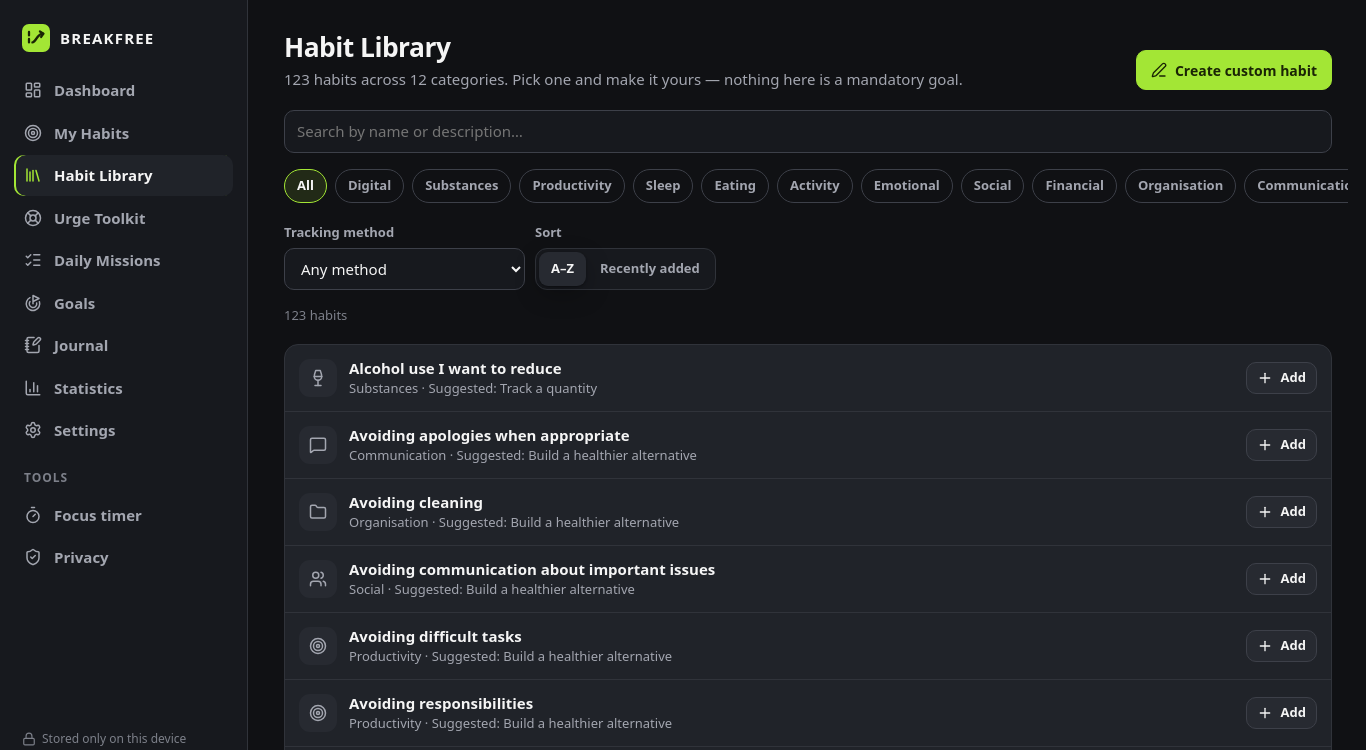
Test case: habits › adds a habit from the library with validation
The image size is (1366, 750).
Type "smoking cig" into the search field. click: {"x": 808, "y": 131}
box: [284, 110, 1332, 153]
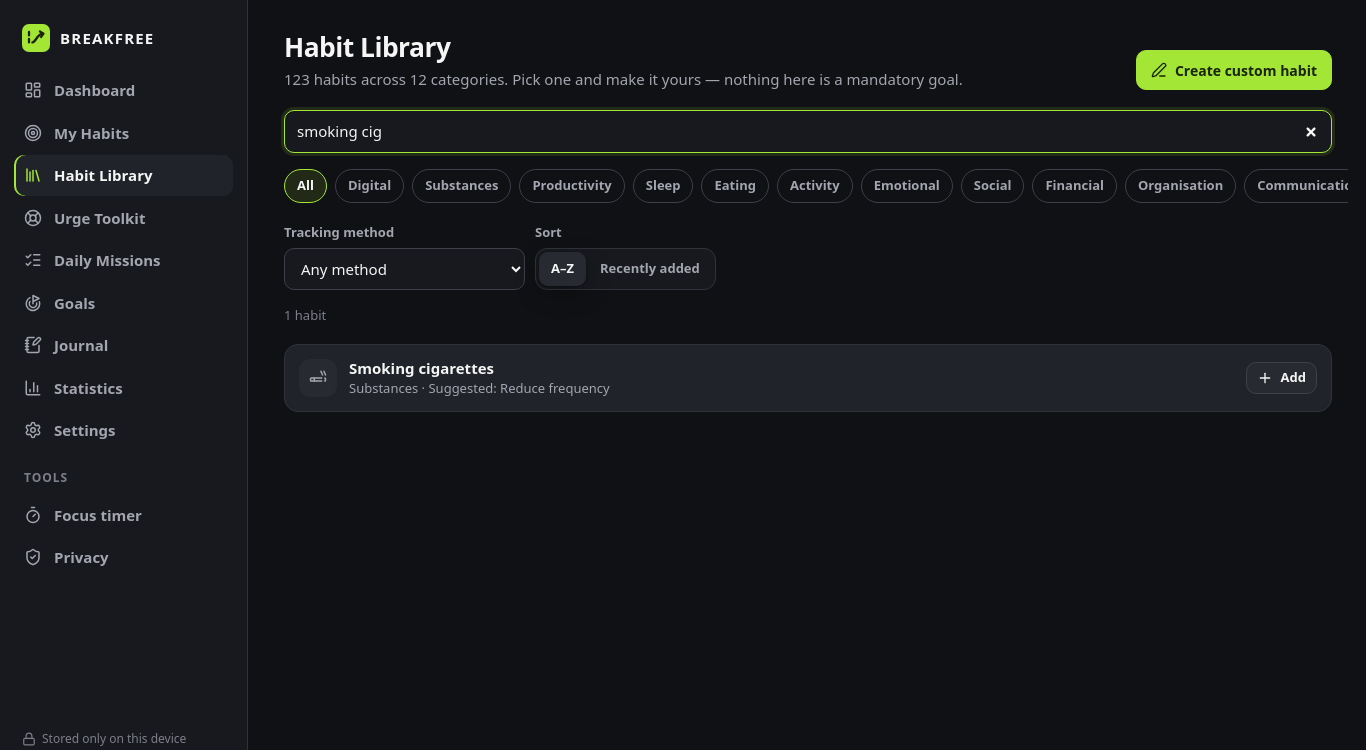
Click the button with aria-label "Add Smoking cigarettes". click: {"x": 1281, "y": 378}
box: [1246, 362, 1317, 394]
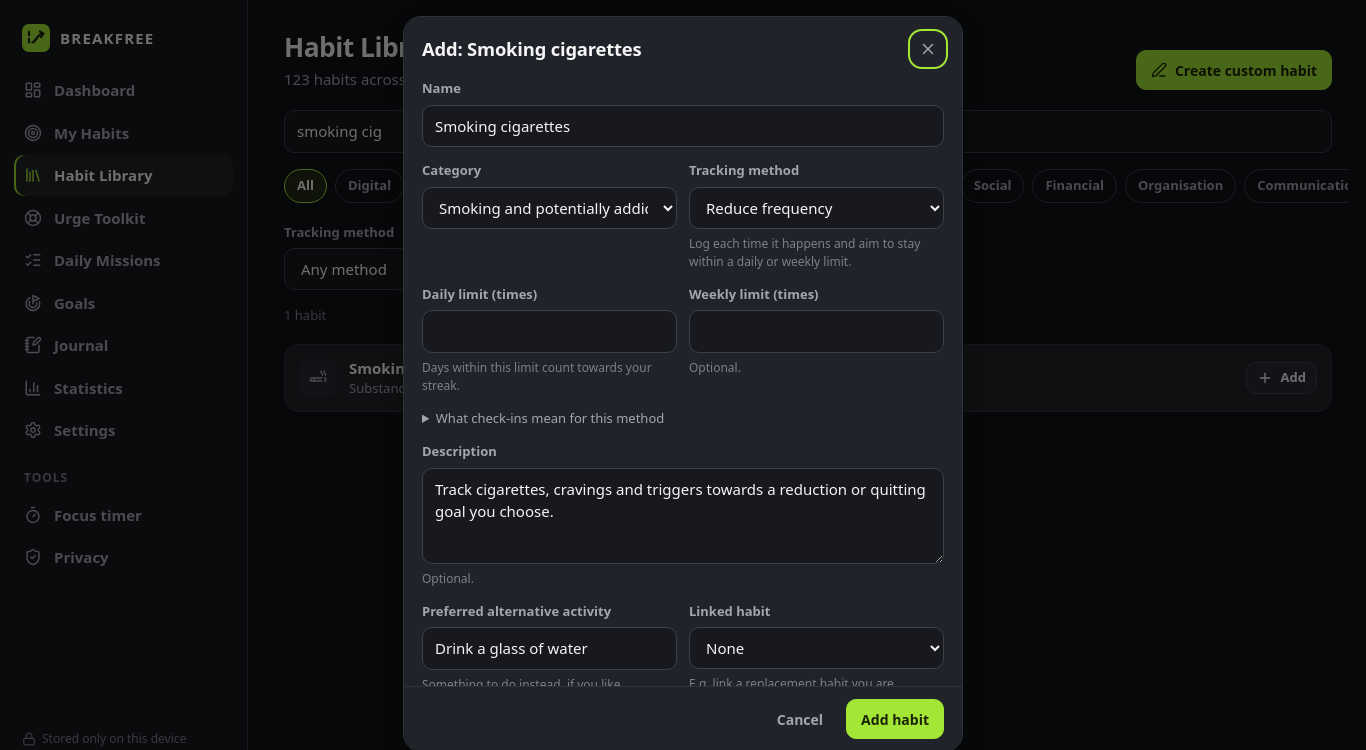
Click the button "Add habit". click: {"x": 895, "y": 719}
box: [846, 699, 944, 739]
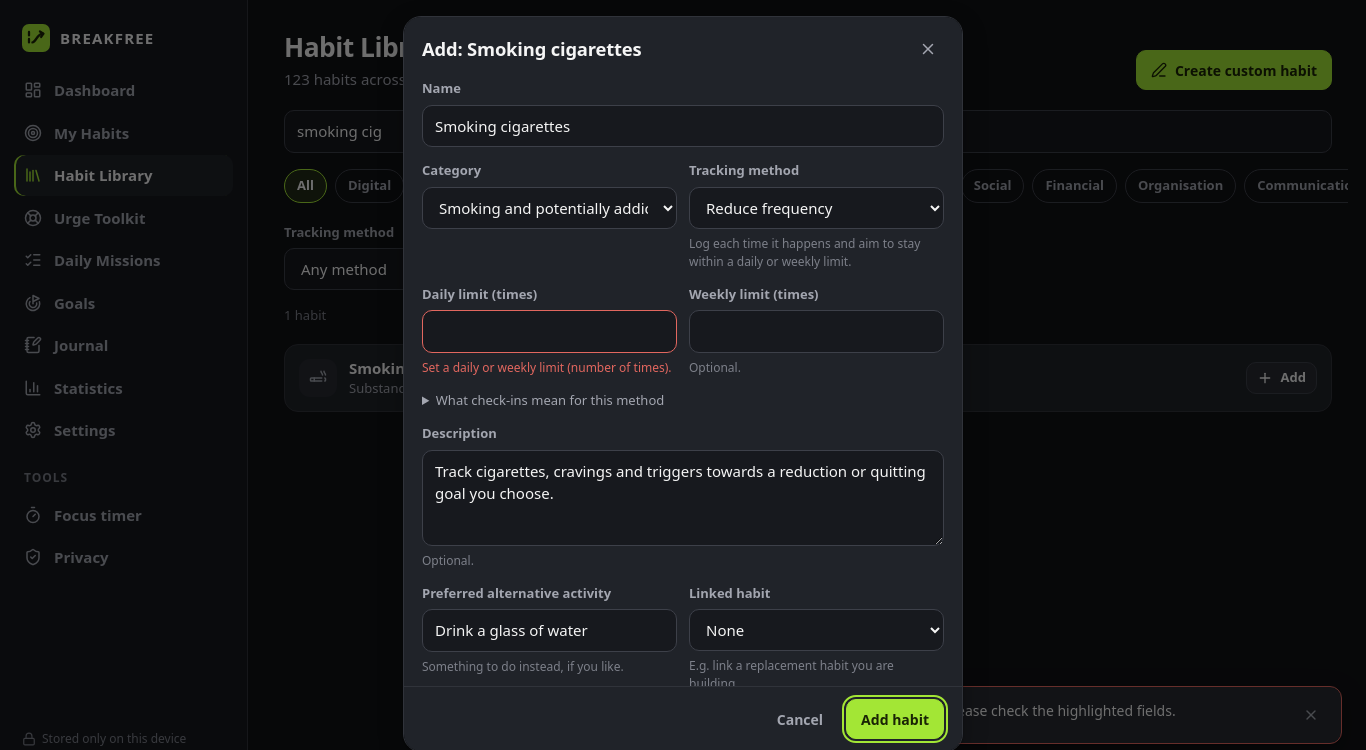
expect the text "Set a daily or weekly limit (number of times)." is shown: met, box [422, 358, 677, 376]
Type "5" into the number field labelled "Daily limit (times)". click: {"x": 550, "y": 331}
box: [422, 310, 677, 352]
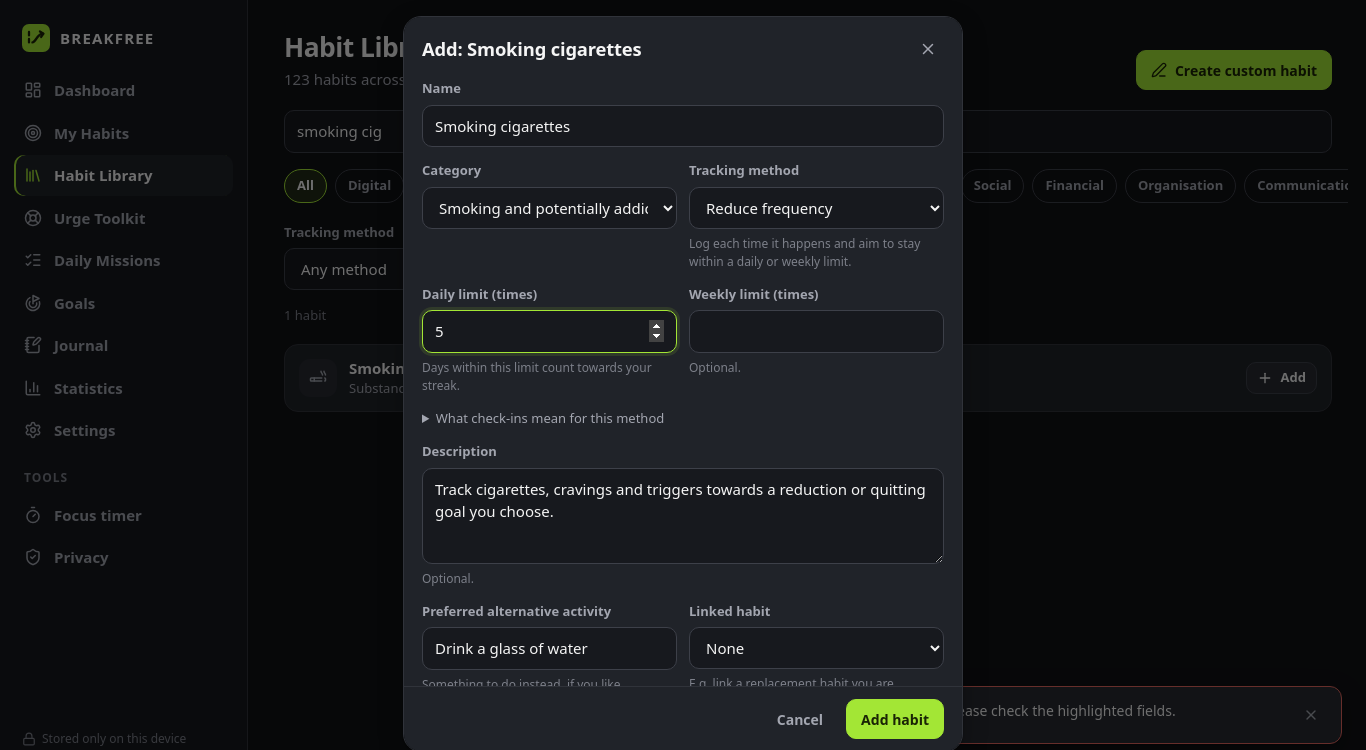
Click the button "Add habit". click: {"x": 895, "y": 719}
box: [846, 699, 944, 739]
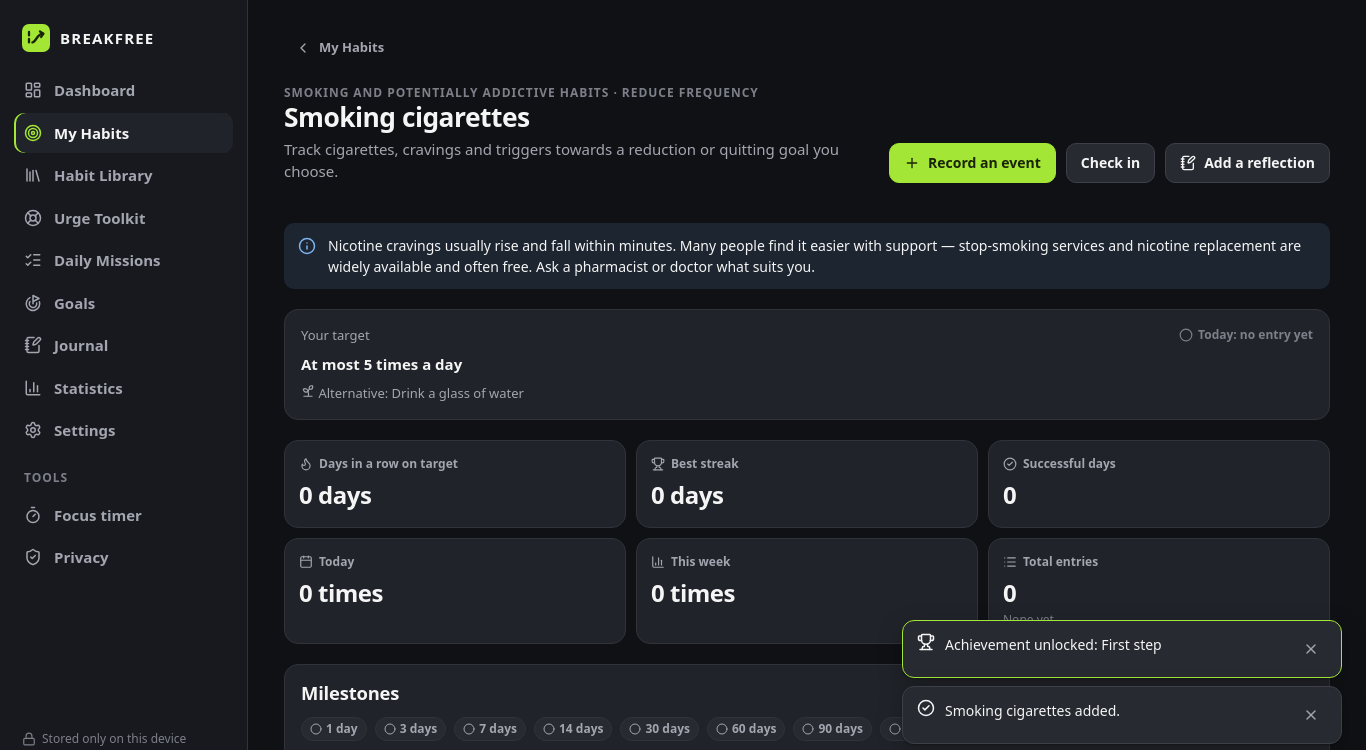
expect the heading "Smoking cigarettes" is shown: met, box [284, 99, 530, 135]
